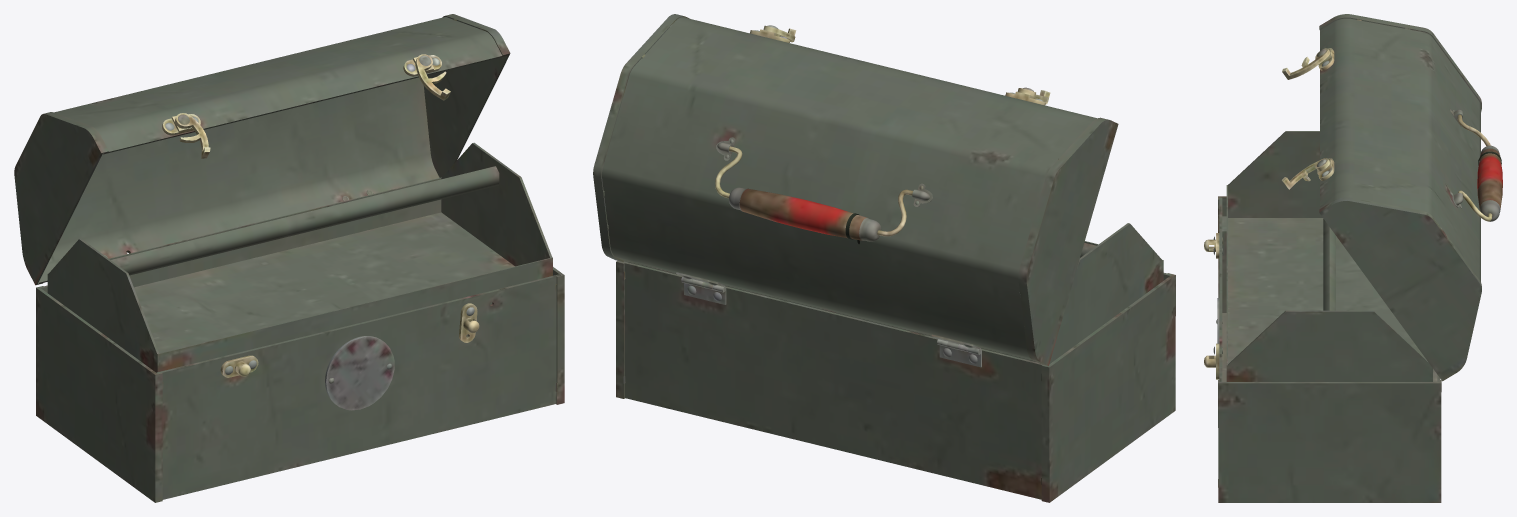
Rendered from metal_toolbox.d65dd726.glb.
The picture shows the model from 3 angles, left to right: view 1: azimuth 30°, elevation 25°; view 2: azimuth 150°, elevation 25°; view 3: azimuth 270°, elevation 25°; orthographic projection. The views are drawn at different scales.
Visible parts, largest first — view 1: Cylinder.015, metal_toolbox, metal_toolbox_tray, metal_toolbox_handle_latch_r, metal_toolbox_handle_latch_l; view 2: Cylinder.015, metal_toolbox, metal_toolbox_tray, metal_toolbox_handle; view 3: Cylinder.015, metal_toolbox_tray, metal_toolbox, metal_toolbox_handle, metal_toolbox_handle_latch_l, metal_toolbox_handle_latch_r.
Boxes of the visible parts, box(x1,y1,x2,y2) form: Cylinder.015: box(14, 14, 510, 285); metal_toolbox: box(36, 267, 564, 502); metal_toolbox_tray: box(47, 142, 552, 372); metal_toolbox_handle_latch_r: box(415, 54, 450, 100); metal_toolbox_handle_latch_l: box(175, 113, 210, 158); Cylinder.015: box(593, 14, 1118, 365); metal_toolbox: box(616, 260, 1175, 502); metal_toolbox_tray: box(628, 223, 1163, 363); metal_toolbox_handle: box(715, 146, 912, 244); Cylinder.015: box(1317, 14, 1481, 381); metal_toolbox_tray: box(1226, 131, 1432, 381); metal_toolbox: box(1204, 196, 1441, 502); metal_toolbox_handle: box(1457, 114, 1502, 221); metal_toolbox_handle_latch_l: box(1282, 48, 1330, 79); metal_toolbox_handle_latch_r: box(1282, 158, 1330, 189).
Bounding box in the file's own units: 0.95 × 0.7237 × 0.6425.
Materials: 1 (1 with a texture image).
